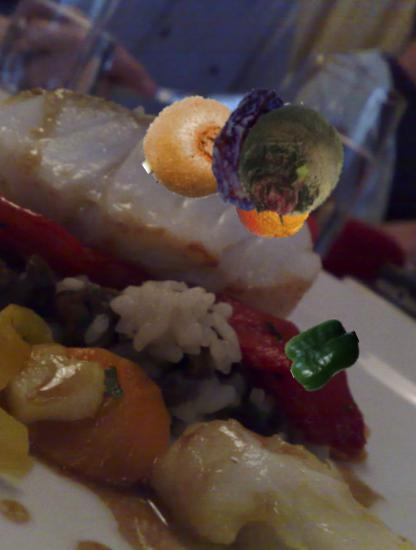Beetroot: (221, 94, 359, 232)
Dates: (188, 86, 315, 213)
Kiwi: (142, 95, 250, 203)
Mandarine: (235, 165, 316, 246)
Pepper: (286, 316, 361, 391)
